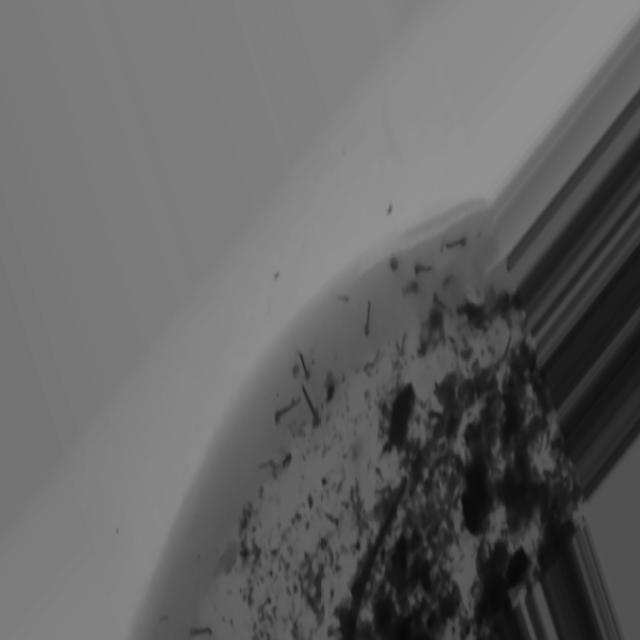larvas: (305, 386, 323, 426), (276, 396, 304, 420), (262, 455, 290, 474), (434, 294, 454, 312), (363, 297, 373, 331), (300, 348, 310, 382), (404, 282, 423, 295), (446, 238, 468, 249), (414, 262, 431, 276), (190, 626, 213, 636)
